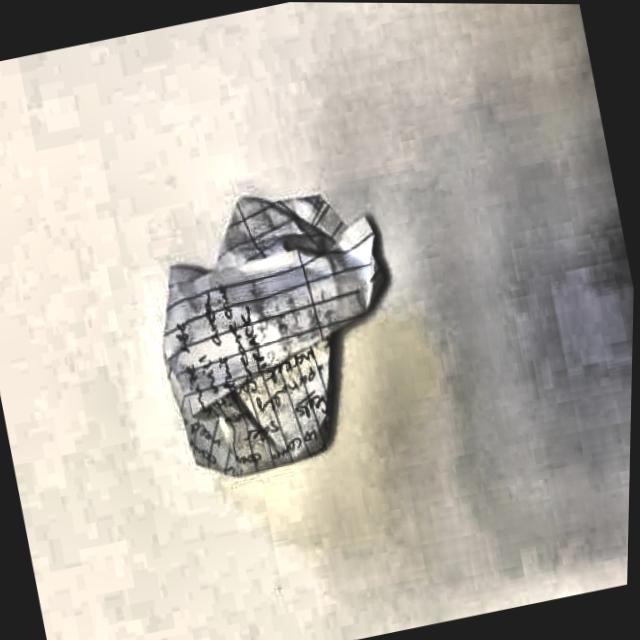Paper: (131, 169, 423, 487)
